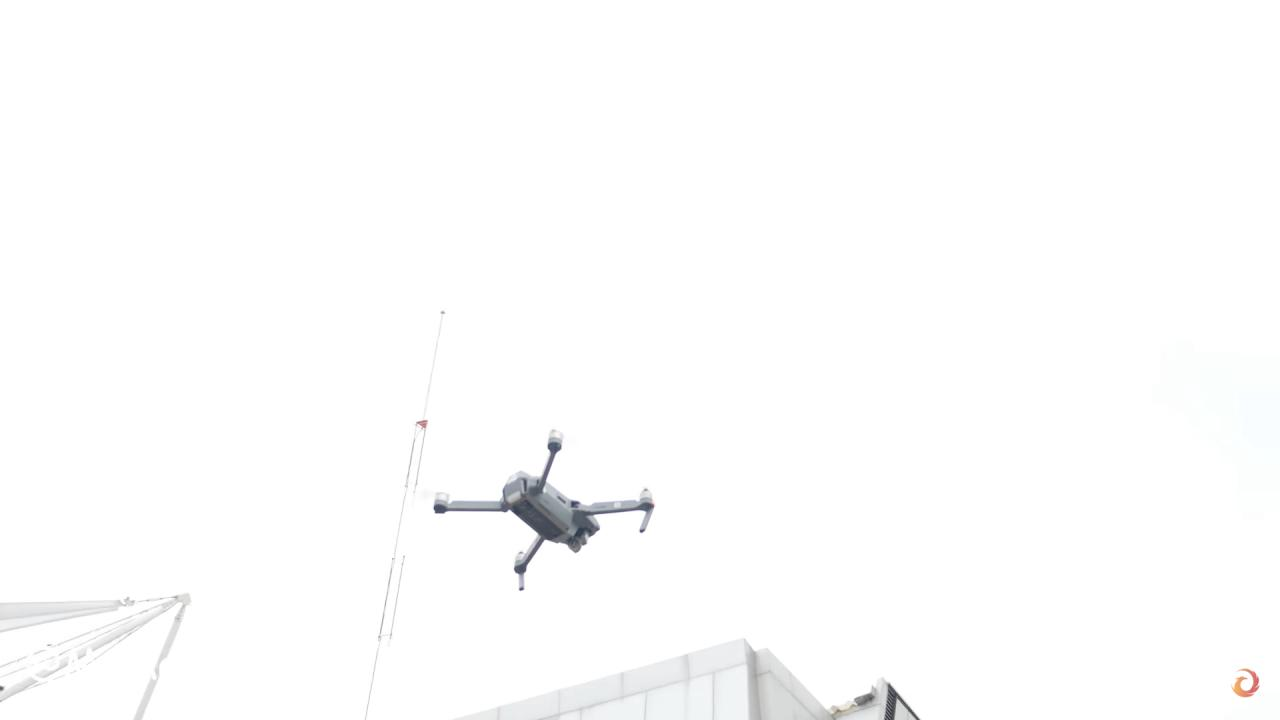Drone: (423, 419, 662, 599)
